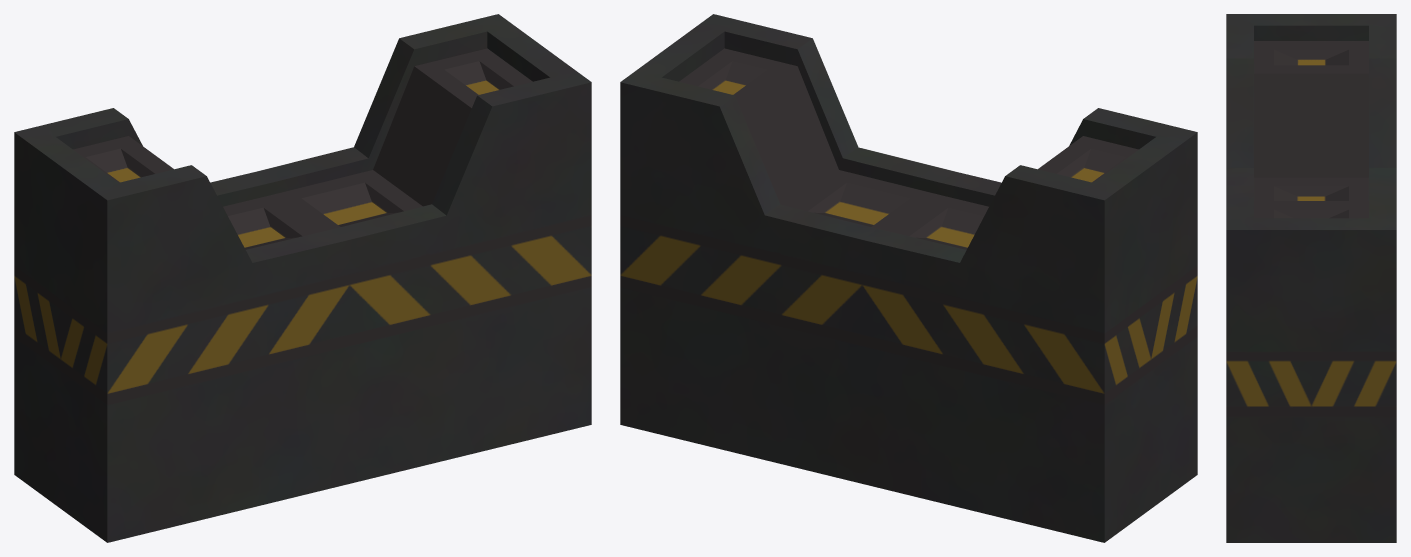
The model's file is Gate_bottom.glb.
The picture shows the model from 3 angles, left to right: view 1: azimuth 30°, elevation 25°; view 2: azimuth 150°, elevation 25°; view 3: azimuth 270°, elevation 25°; orthographic projection. The views are drawn at different scales.
Visible parts, largest first — view 1: Cube; view 2: Cube; view 3: Cube.
Part boxes in pixels (x1,y1,x2,y2): Cube: (14,14,591,542); Cube: (620,14,1197,542); Cube: (1226,14,1396,542).
Bounding box in the file's own units: 6 × 4.06 × 2.
Materials: 1 (1 with a texture image).
